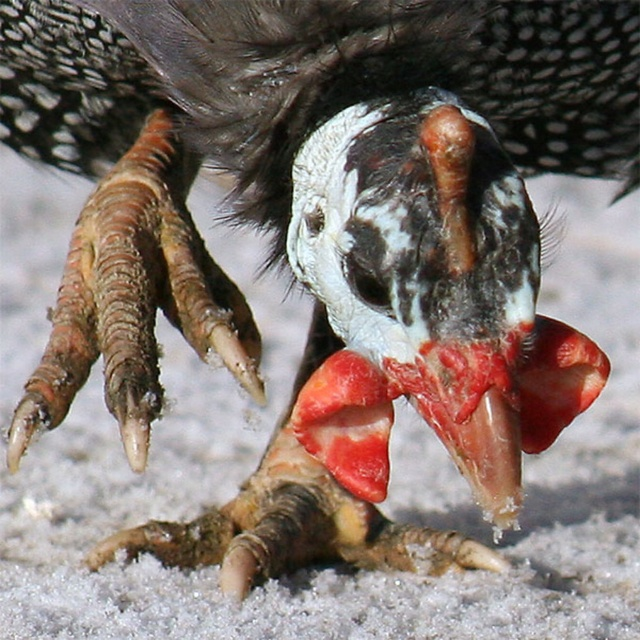Chicken: (0, 0, 639, 629)
